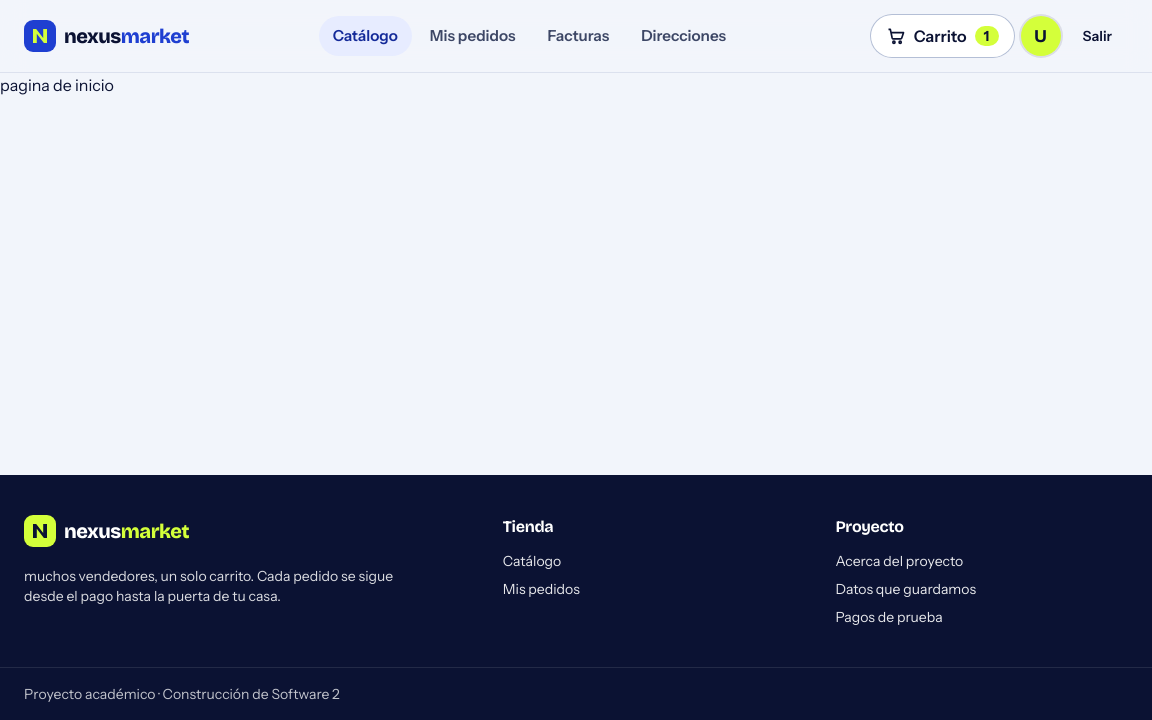
it: cart side panel › shows no misleading total when no line can be priced
The image size is (1152, 720).
What coordinates should you click on to do the following:
click the button with aria-label "Carrito, 1 producto"
I would click on:
 (942, 36)
Its box is [870,14,1014,58].
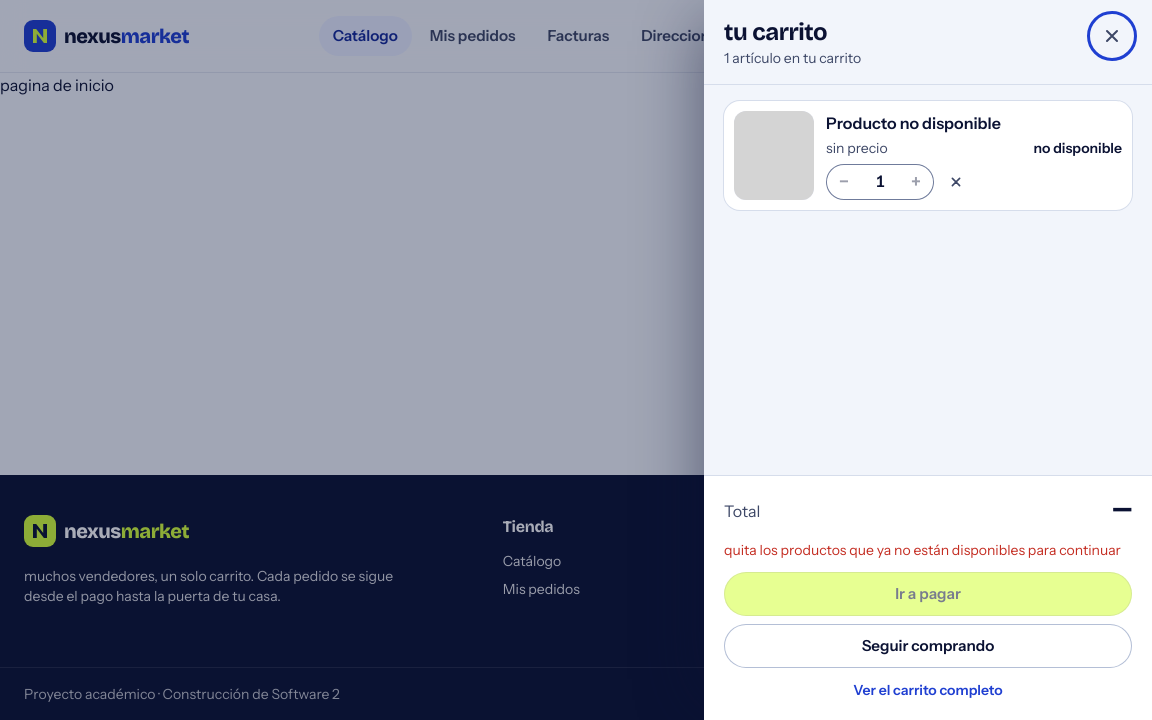
Now the text "Producto no disponible" is shown, box [826,113,1001,133]
Now the text "—" is shown, box [1112,492,1132,524]
Now the button "Ir a pagar" is disabled, box [724,572,1132,616]
